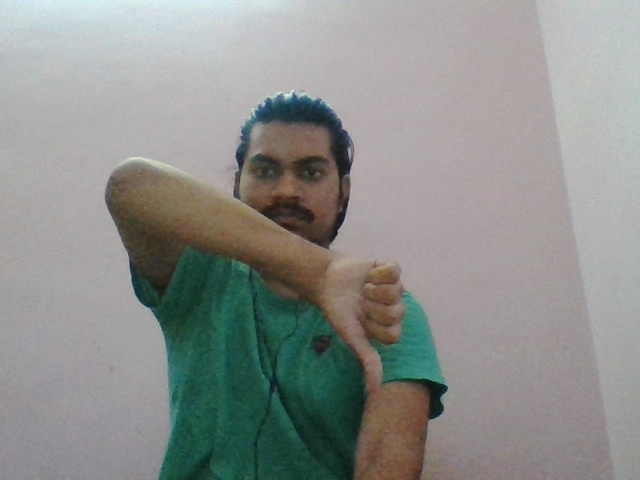ThumbsDown: (322, 244, 406, 398)
